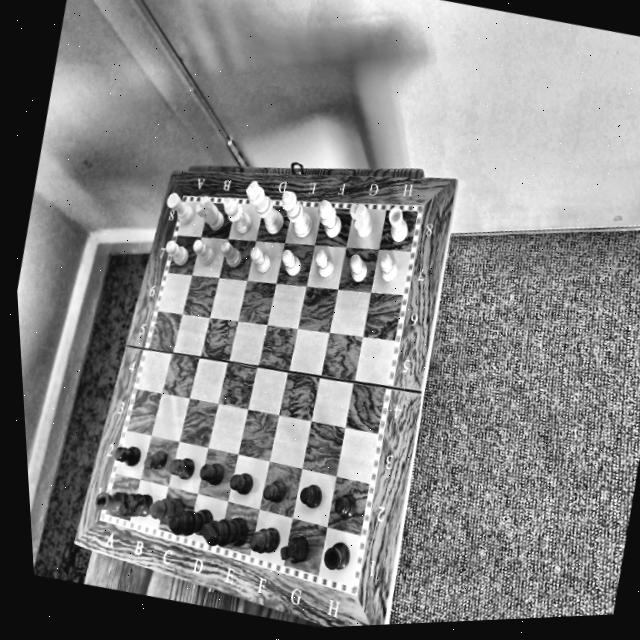black-bishop: (238, 518, 283, 559), (144, 489, 185, 529)
black-king: (192, 501, 251, 558)
black-knight: (269, 524, 314, 571), (111, 484, 155, 526)
black-pawn: (105, 432, 145, 475), (193, 453, 227, 489), (294, 476, 328, 510), (165, 450, 200, 483), (331, 486, 362, 522), (226, 464, 256, 500), (140, 440, 170, 475), (259, 477, 290, 506)
black-queen: (161, 495, 216, 547)
black-rook: (315, 529, 357, 579), (89, 481, 129, 518)
white-bishop: (310, 197, 349, 241), (216, 195, 255, 235)
white-king: (235, 174, 292, 235)
white-knight: (340, 194, 380, 242), (190, 192, 227, 235)
white-pawn: (339, 246, 374, 287), (157, 233, 193, 272), (370, 245, 403, 285), (214, 235, 248, 273), (307, 240, 337, 282), (275, 244, 307, 281), (187, 233, 217, 265), (244, 242, 271, 273)
white-queen: (272, 183, 321, 242)
white-rook: (154, 186, 198, 231), (380, 204, 416, 245)
